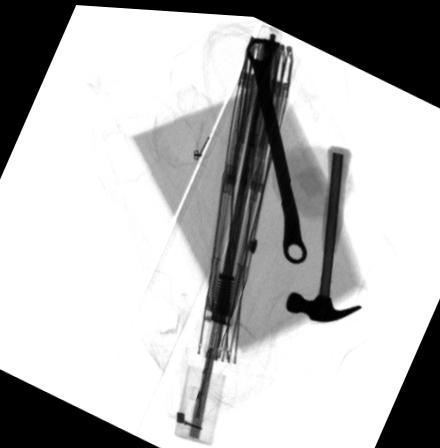Hammer: (285, 139, 362, 317)
Wrench: (246, 32, 307, 260)
